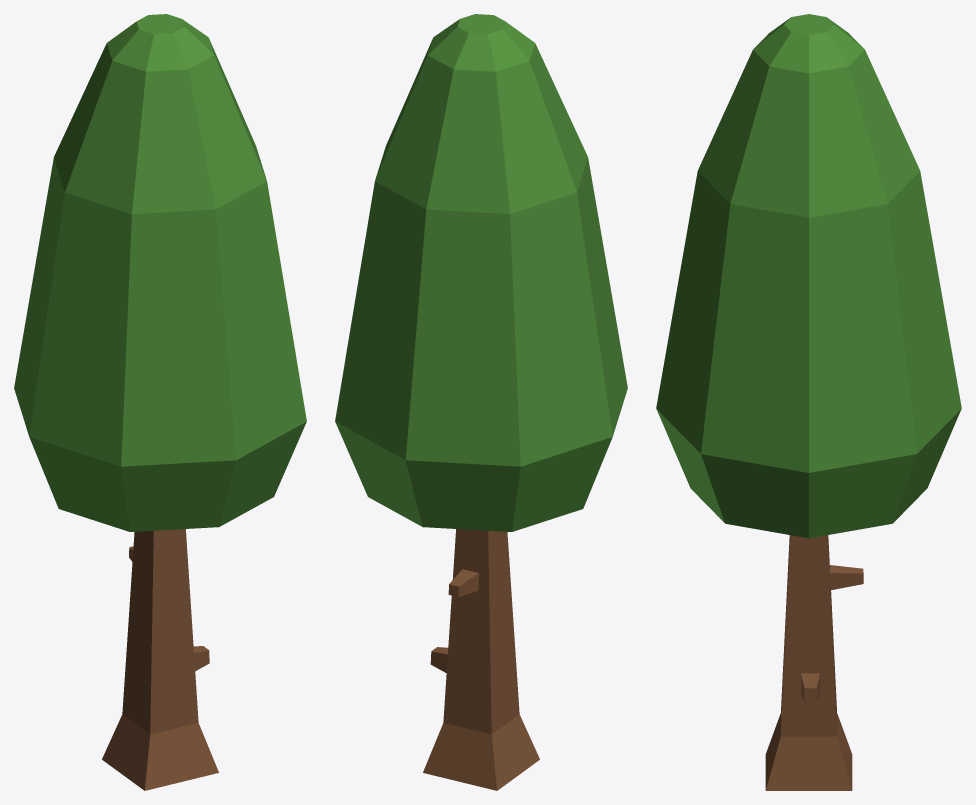
Rendered from tree_cone.glb.
3 views of the same model, side by side, from view 1: azimuth 30°, elevation 25°; view 2: azimuth 150°, elevation 25°; view 3: azimuth 270°, elevation 25° (orthographic).
Parts seen in each view (by area): view 1: tree_cone; view 2: tree_cone; view 3: tree_cone.
Boxes of the visible parts, x1,y1,x2,y2 form: tree_cone: [14, 14, 306, 790]; tree_cone: [335, 14, 627, 790]; tree_cone: [656, 14, 961, 790].
Size of the model in its own units: 0.5297 by 1.43 by 0.5297.
